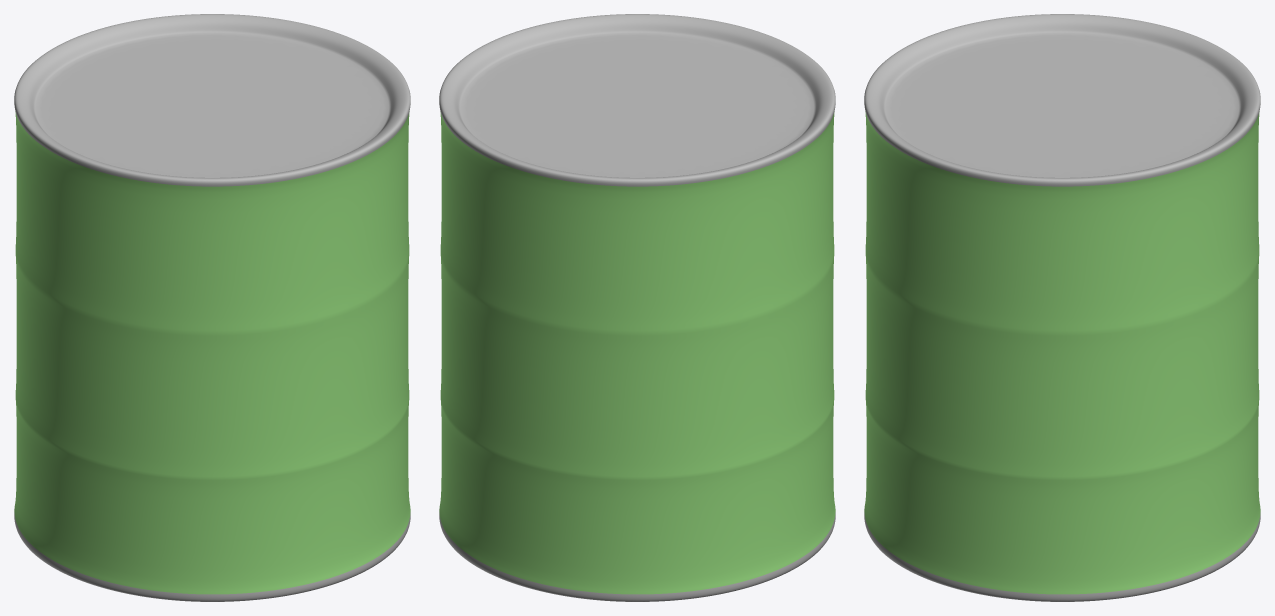
File: barrel.fbx
3 views of the same model, side by side, from view 1: azimuth 30°, elevation 25°; view 2: azimuth 150°, elevation 25°; view 3: azimuth 270°, elevation 25° (orthographic).
Parts seen in each view (by area): view 1: Cylinder; view 2: Cylinder; view 3: Cylinder.
Part boxes in pixels (bbox=[...]): Cylinder: bbox=[14, 14, 410, 601]; Cylinder: bbox=[439, 14, 835, 601]; Cylinder: bbox=[864, 14, 1260, 601].
Size of the model in its own units: 202 by 238 by 202.
